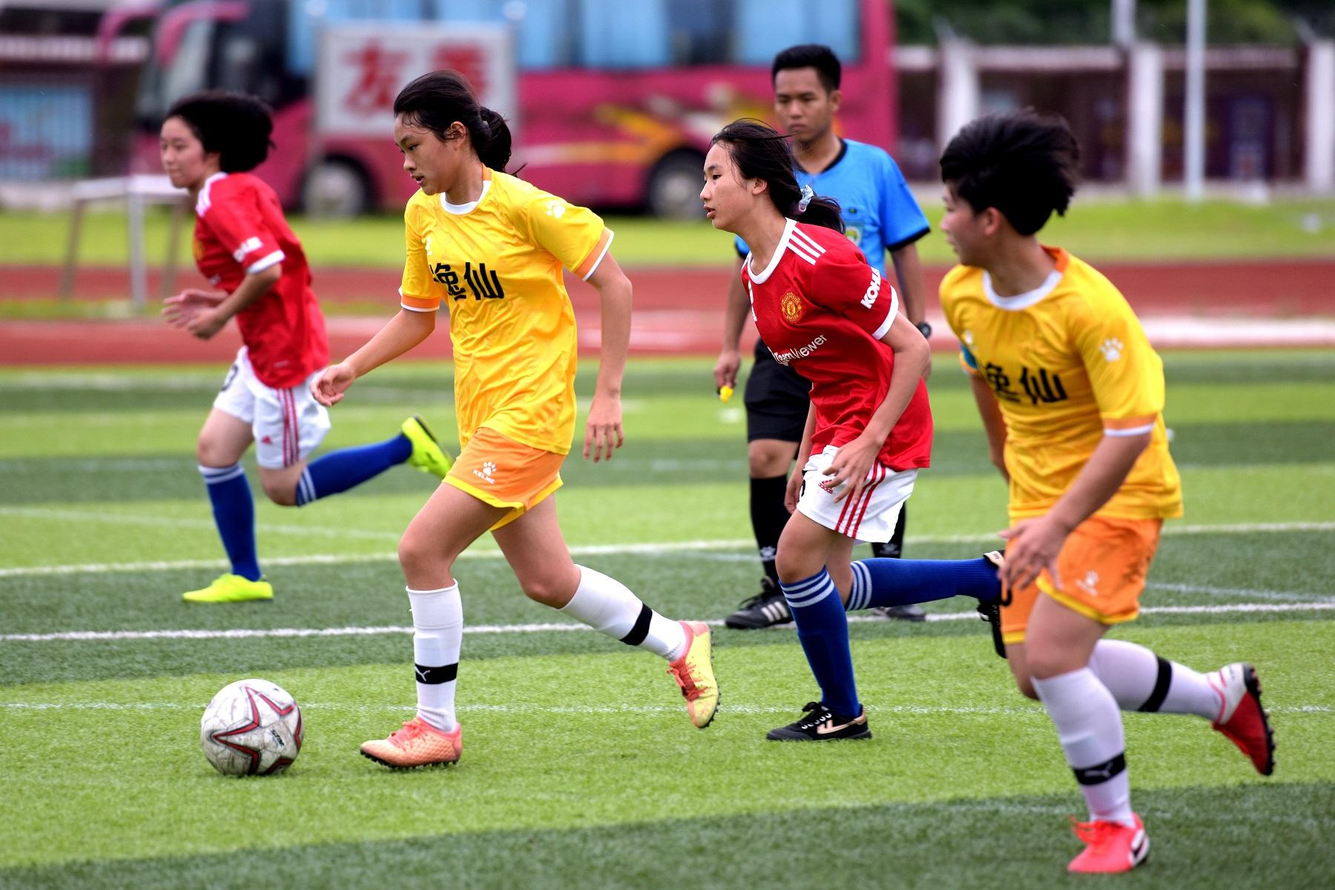football: (199, 678, 306, 778)
